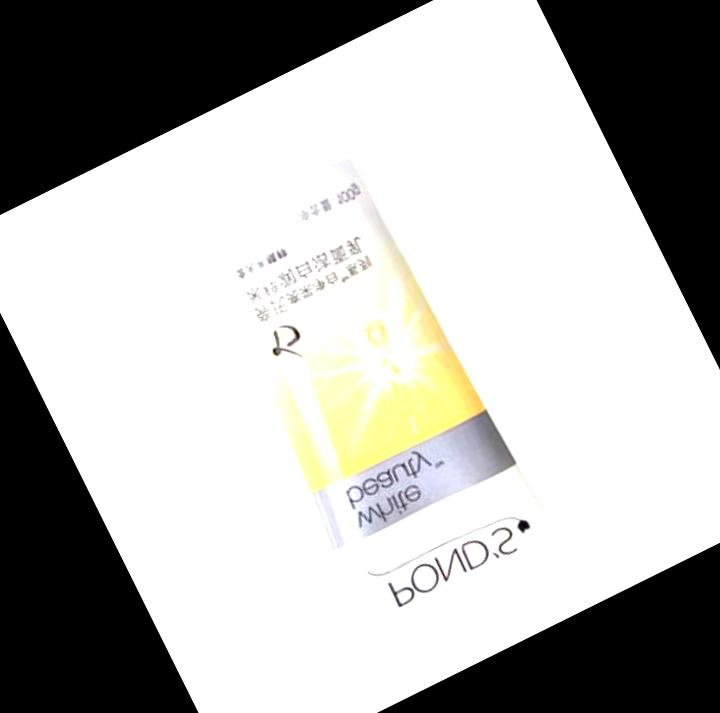cosmetic: (128, 70, 589, 680)
